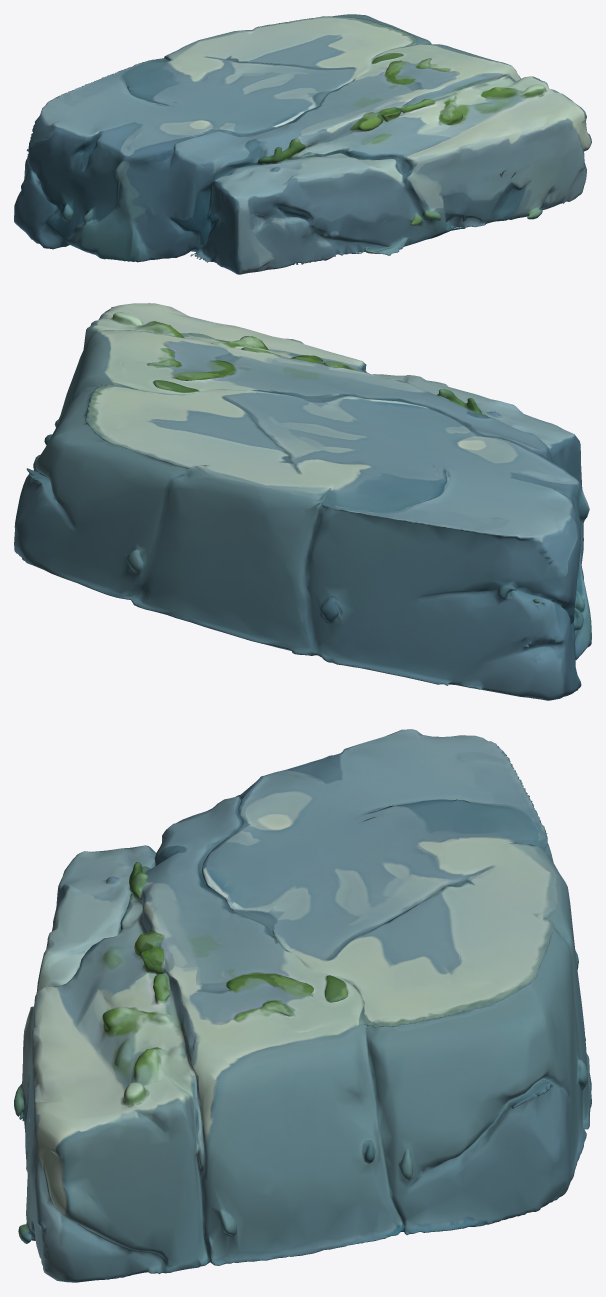
Rendered from SM_Rock_Platform_01.fbx.
3 renders of one model, top to bottom at view 1: azimuth 30°, elevation 25°; view 2: azimuth 150°, elevation 25°; view 3: azimuth 270°, elevation 25°, orthographic. The views are drawn at different scales.
Visible parts, largest first — view 1: SM_Rock_Platform_01; view 2: SM_Rock_Platform_01; view 3: SM_Rock_Platform_01.
Boxes of the visible parts, x1=… form: SM_Rock_Platform_01: x1=14, y1=14, x2=591, y2=274; SM_Rock_Platform_01: x1=14, y1=303, x2=591, y2=700; SM_Rock_Platform_01: x1=14, y1=729, x2=591, y2=1282.
Size of the model in its own units: 509 by 139 by 310.
